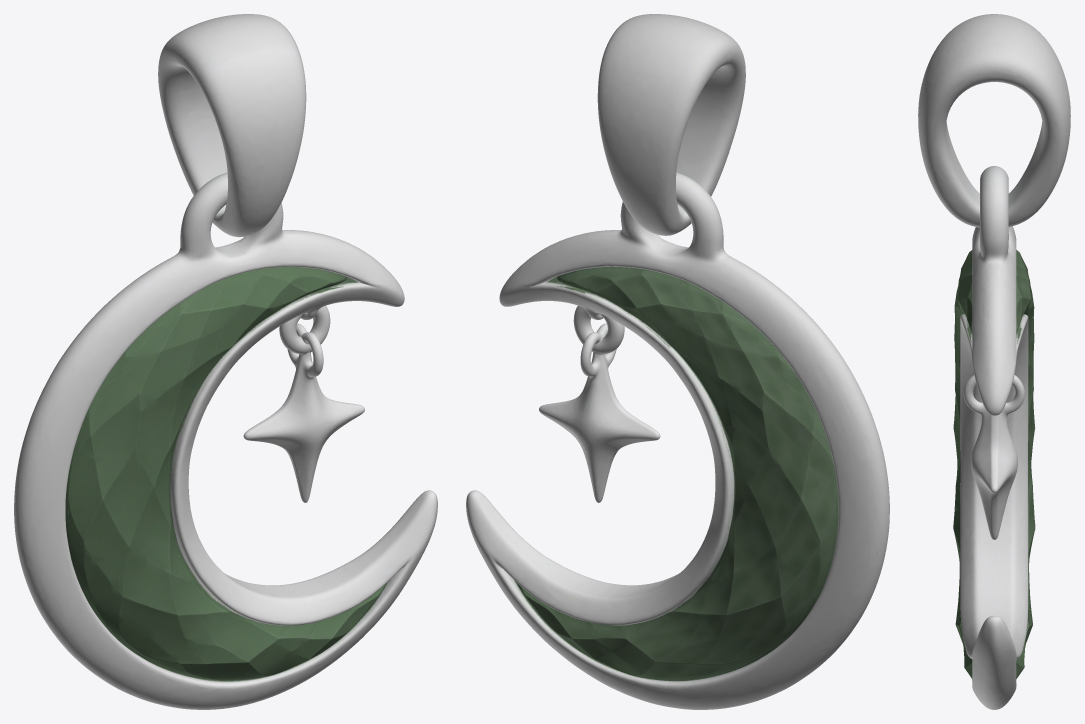
Rendered from lua.glb.
3 renders of one model, left to right at view 1: azimuth 30°, elevation 25°; view 2: azimuth 150°, elevation 25°; view 3: azimuth 270°, elevation 25°, orthographic. The views are drawn at different scales.
Size of the model in its own units: 1.23 by 1.9 by 0.4003.
Materials: 1 (1 with a texture image).
